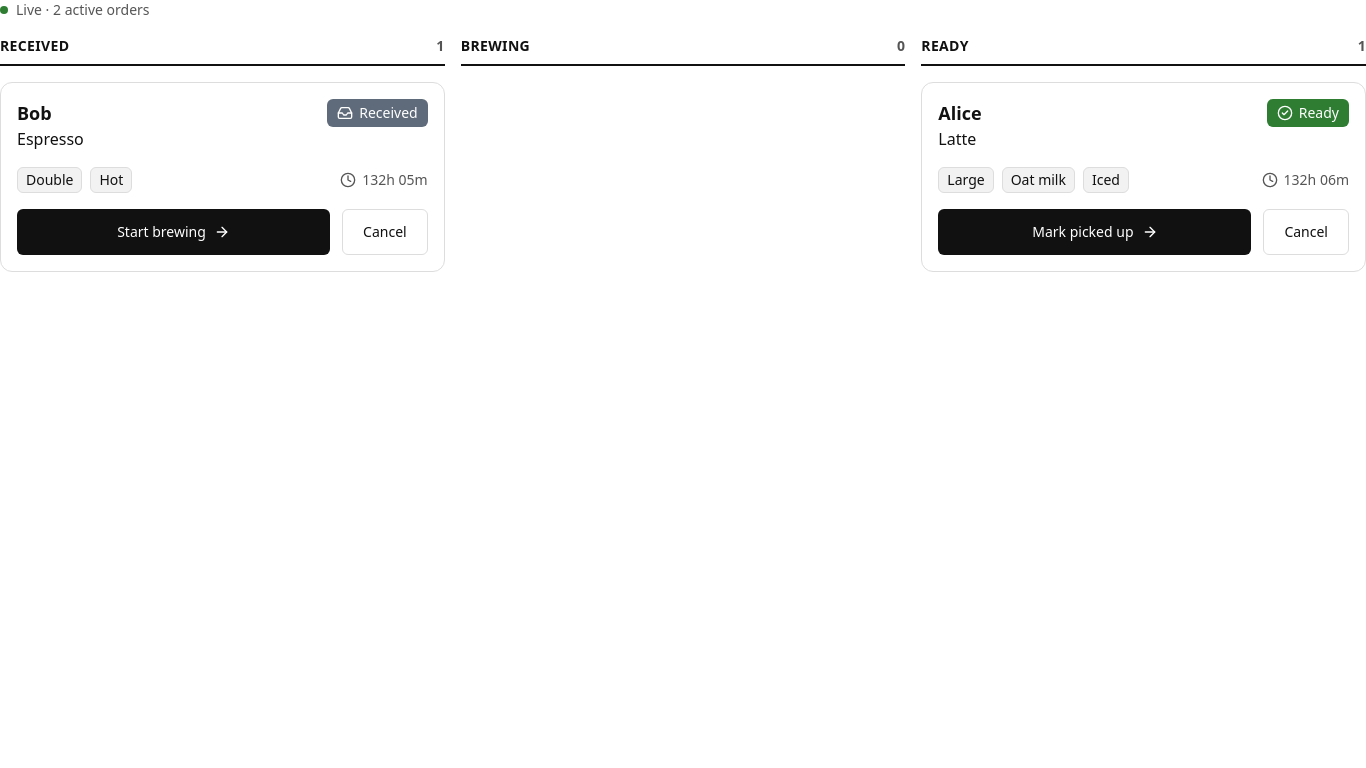
Scenario: BaristaQueue › removes an order from the queue once it is cancelled
Step 1. Click the button "Cancel" below "Hot" → [385, 232], box x1=342 y1=209 x2=428 y2=255
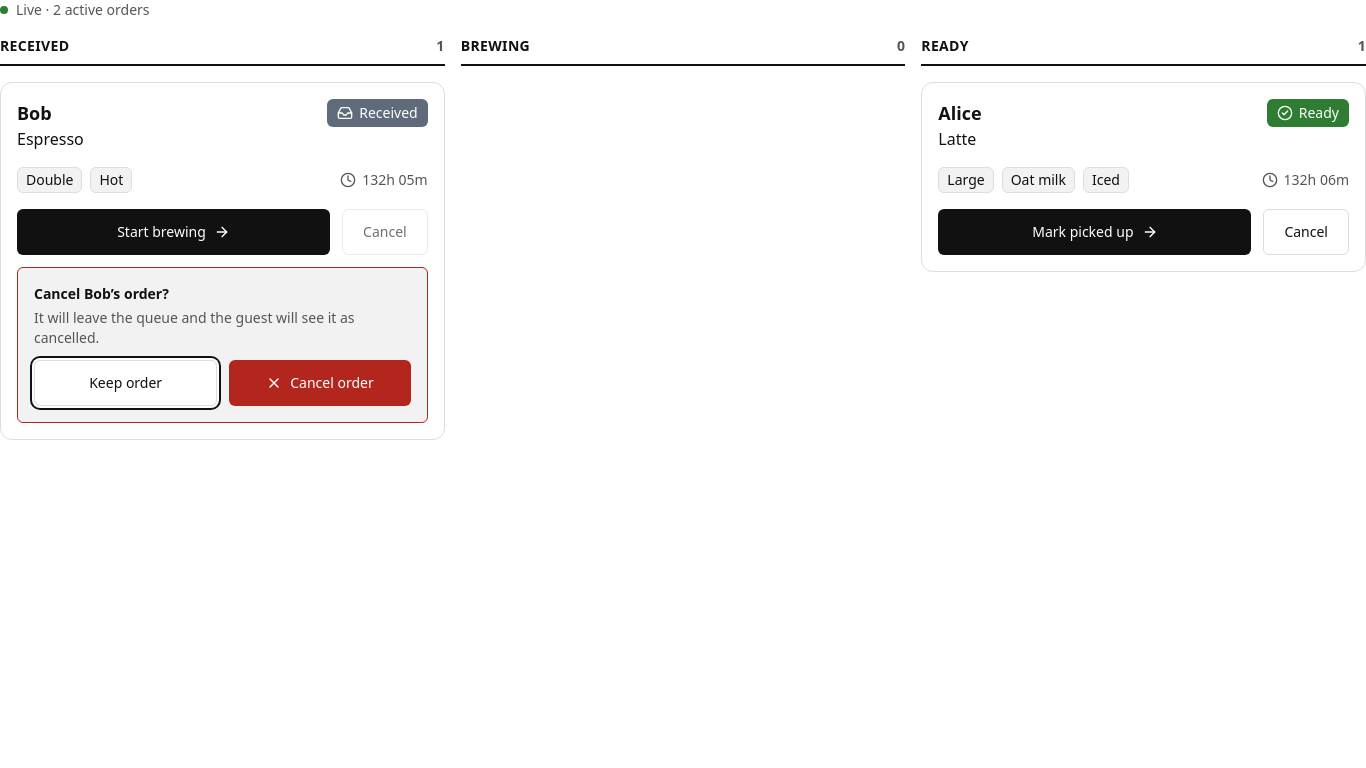
Step 2. Click the button "Cancel order" → [320, 383], box x1=229 y1=360 x2=411 y2=406
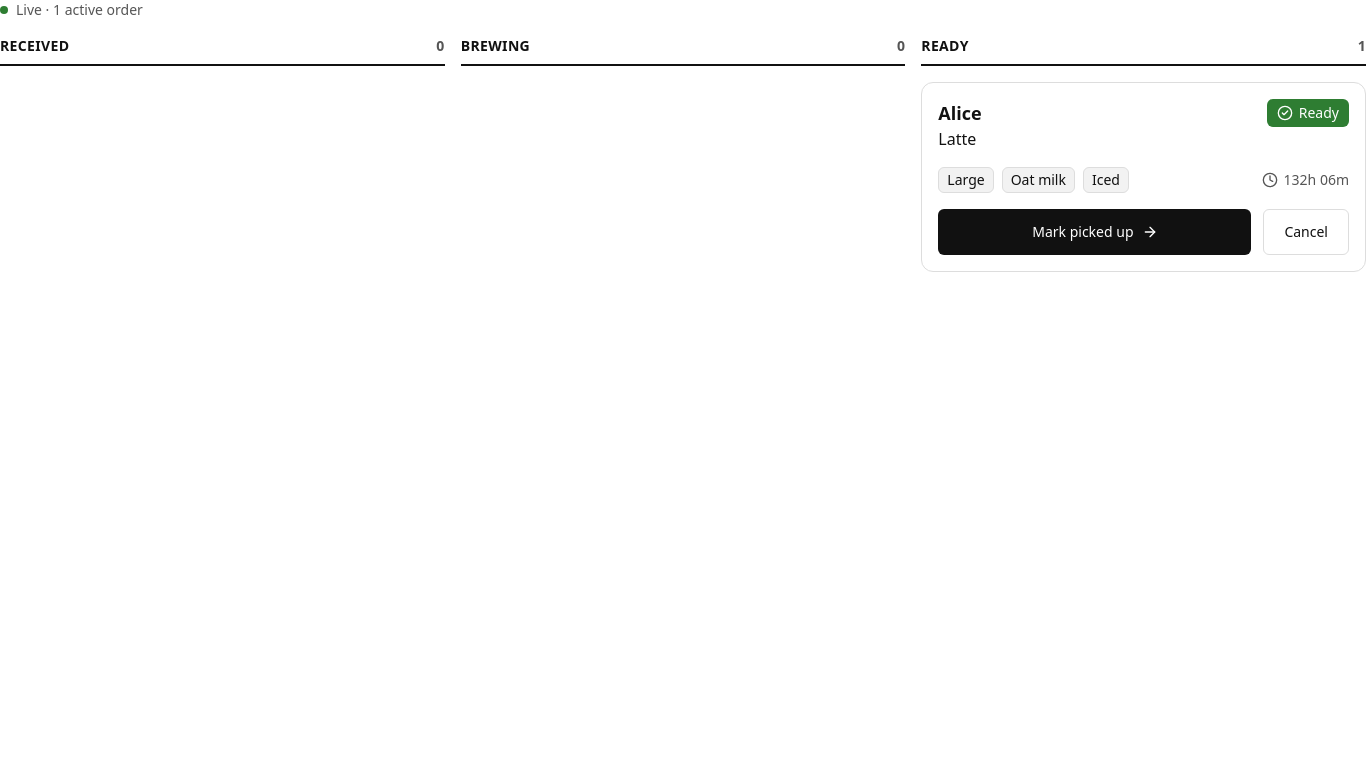
Now the heading "Bob" is gone
